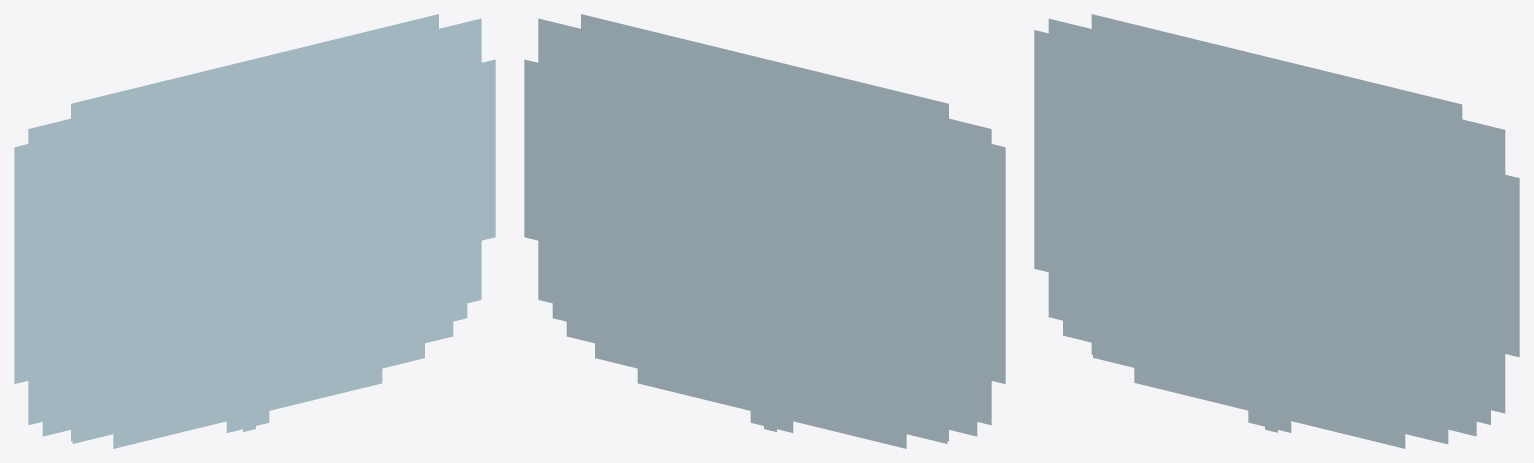
File: wp_water_0.obj
3 views of the same model, side by side, from view 1: azimuth 30°, elevation 25°; view 2: azimuth 150°, elevation 25°; view 3: azimuth 330°, elevation 25° (orthographic).
Bounding box in the file's own units: 0.4856 × 0.357 × 0.
Materials: 1 (1 with a texture image).
